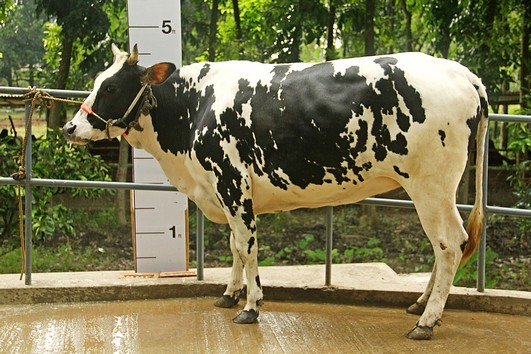cow: (61, 36, 487, 337)
